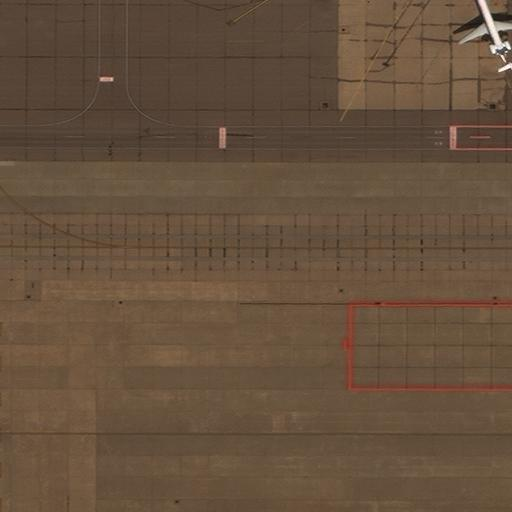Medium Civil Transport: (458, 0, 511, 69)
